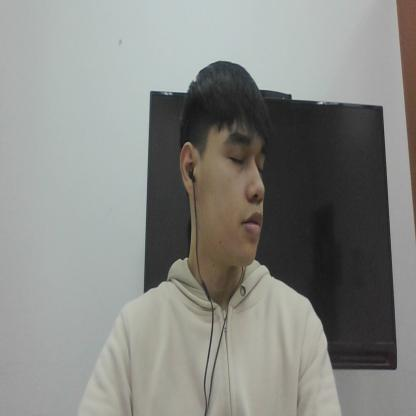Closed-Eyes: (218, 139, 266, 178)
